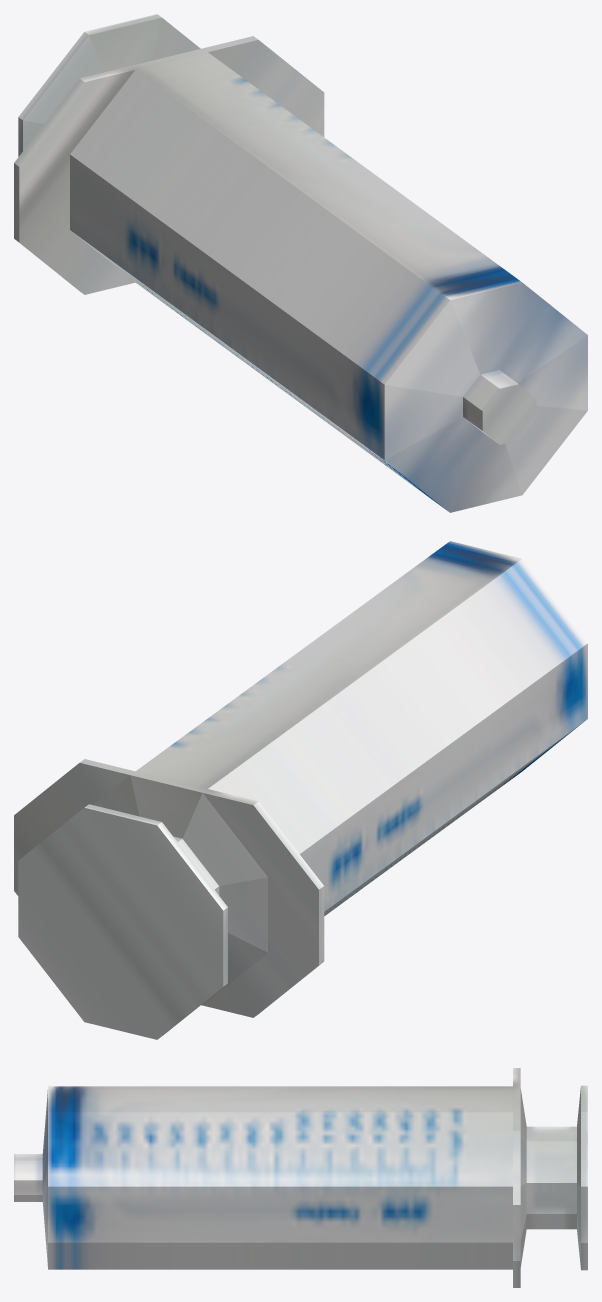
Rendered from Syringe.fbx.
The picture shows the model from 3 angles, top to bottom: view 1: azimuth 30°, elevation 25°; view 2: azimuth 150°, elevation 25°; view 3: azimuth 270°, elevation 25°; orthographic projection. The views are drawn at different scales.
Visible parts, largest first — view 1: Syringe; view 2: Syringe; view 3: Syringe.
Boxes of the visible parts, x1,y1,x2,y2 form: Syringe: [14, 14, 587, 512]; Syringe: [14, 541, 587, 1039]; Syringe: [14, 1068, 587, 1287].
Size of the model in its own units: 0.03 by 0.0202 by 0.0662.
